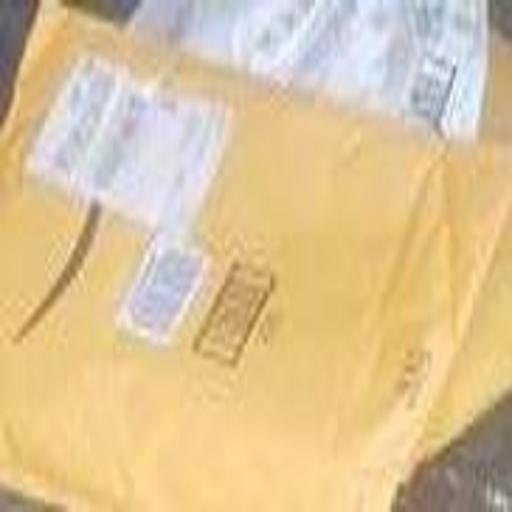Amazon: (0, 42, 485, 511)
